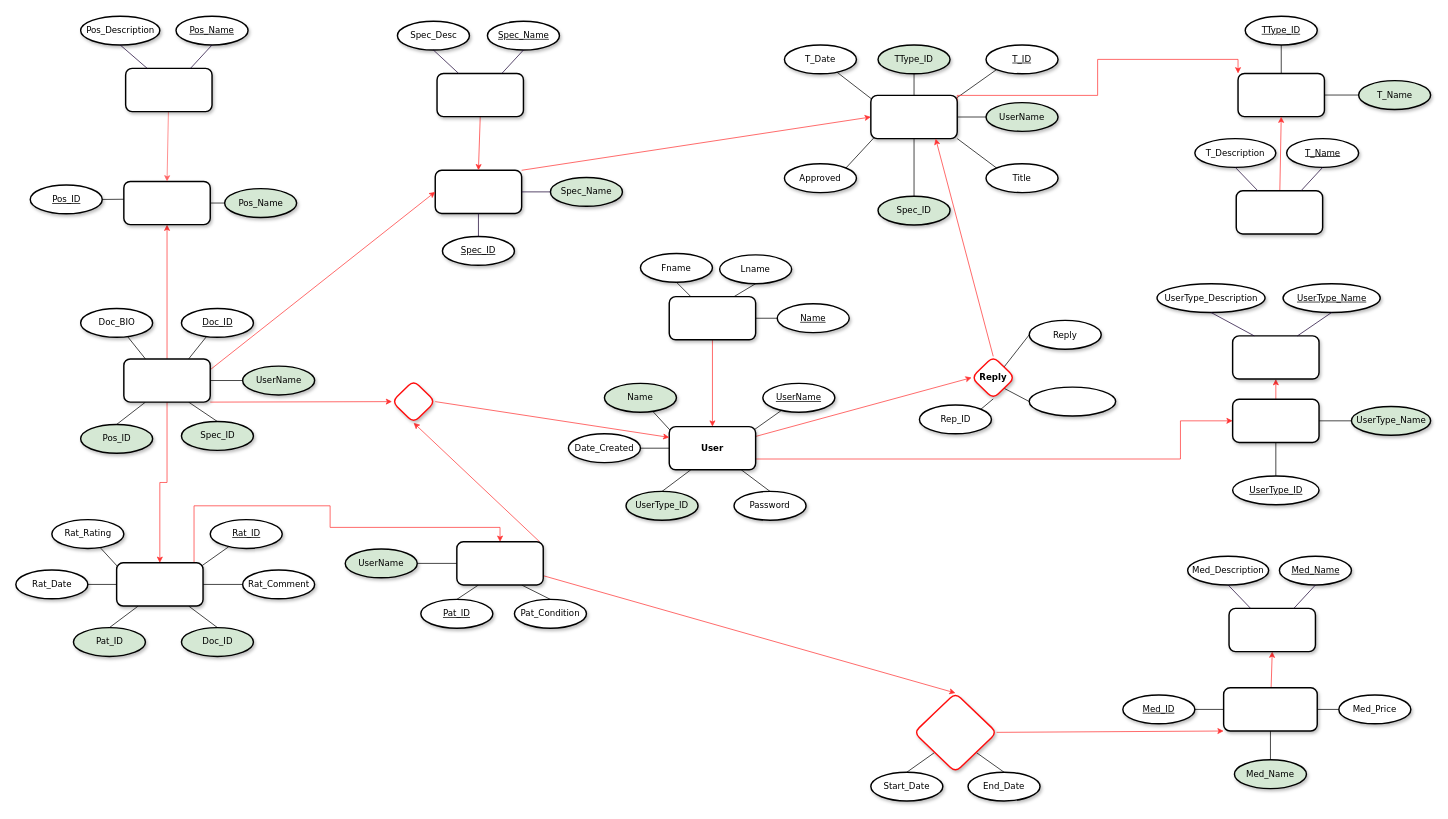
Some shapes in this 1448 by 819 pixel diagram are drawn without their labels. The shapes that lost their labels are listed below. From the top down, each one's centre as x and y in pixels, then its label:
At [169,90]: "Position_Desc".
At [480,95]: "Speciality_Desc".
At [1281,95]: "Topic_Type".
At [914,117]: "Topic".
At [167,203]: "Position".
At [478,192]: "Speciality".
At [1279,213]: "TopicType_Desc".
At [712,319]: "UName".
At [1276,358]: "UserType_Desc".
At [167,381]: "Doctor".
At [414,402]: "Treat".
At [1072,402]: "Rep_Date".
At [1276,421]: "User_Type".
At [500,564]: "Patient".
At [160,585]: "Rating".
At [1272,630]: "Medicine_Desc".
At [1271,710]: "Medicine".
At [956,733]: "Patient Medicine".
